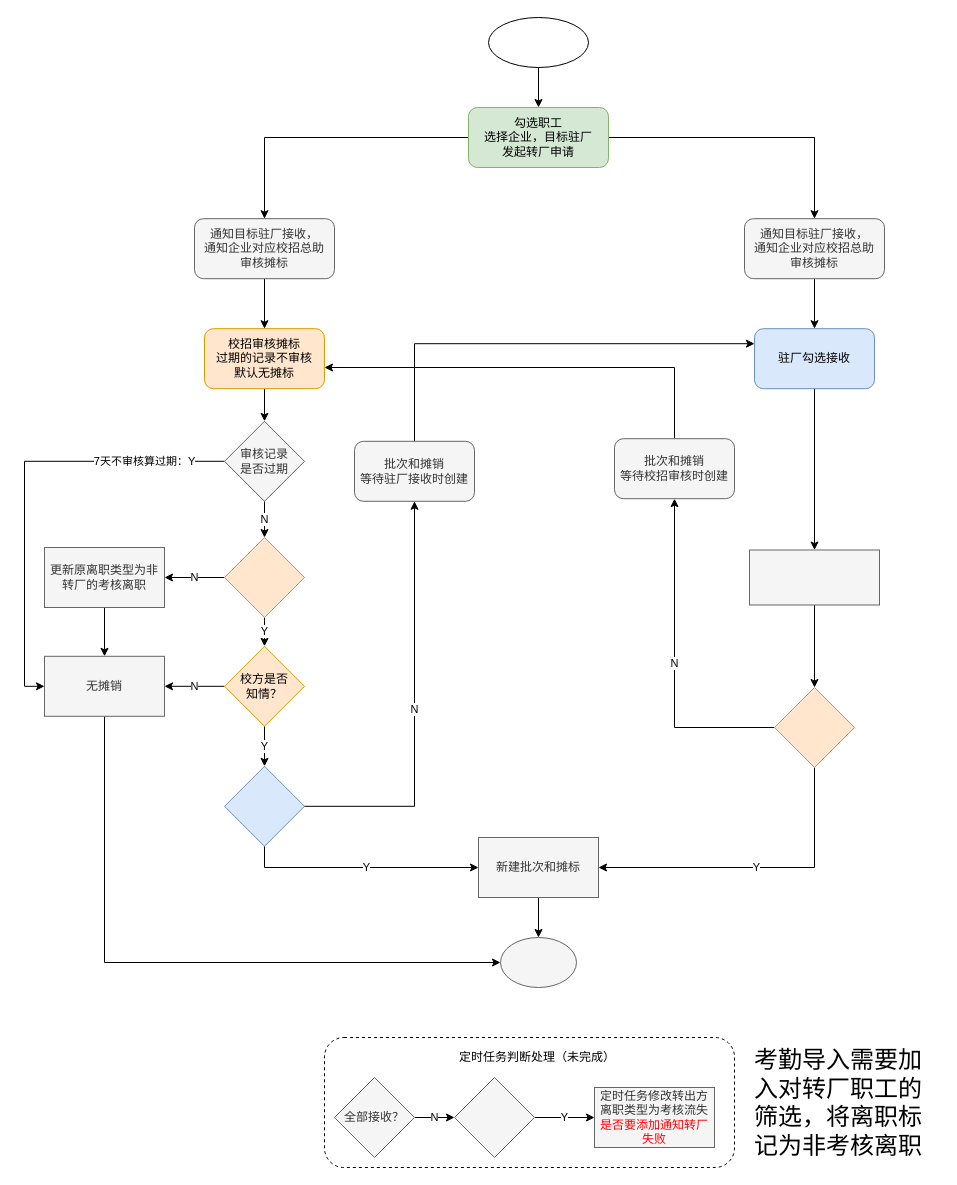
This 957x1185 diagram has some shape labels left out. The shapes that lost their labels are listed below. From the top down, each one's centre as x and y in pixels, then its label:
At pixel 538 42: "开始".
At pixel 264 577: "审核是否 通过？".
At pixel 814 577: "办理新入职、通知原驻厂转行成功".
At pixel 814 727: "校招是否 已审核".
At pixel 264 805: "驻厂是否 已接收？".
At pixel 538 962: "结束".
At pixel 494 1117: "未接收部分是否过期".
